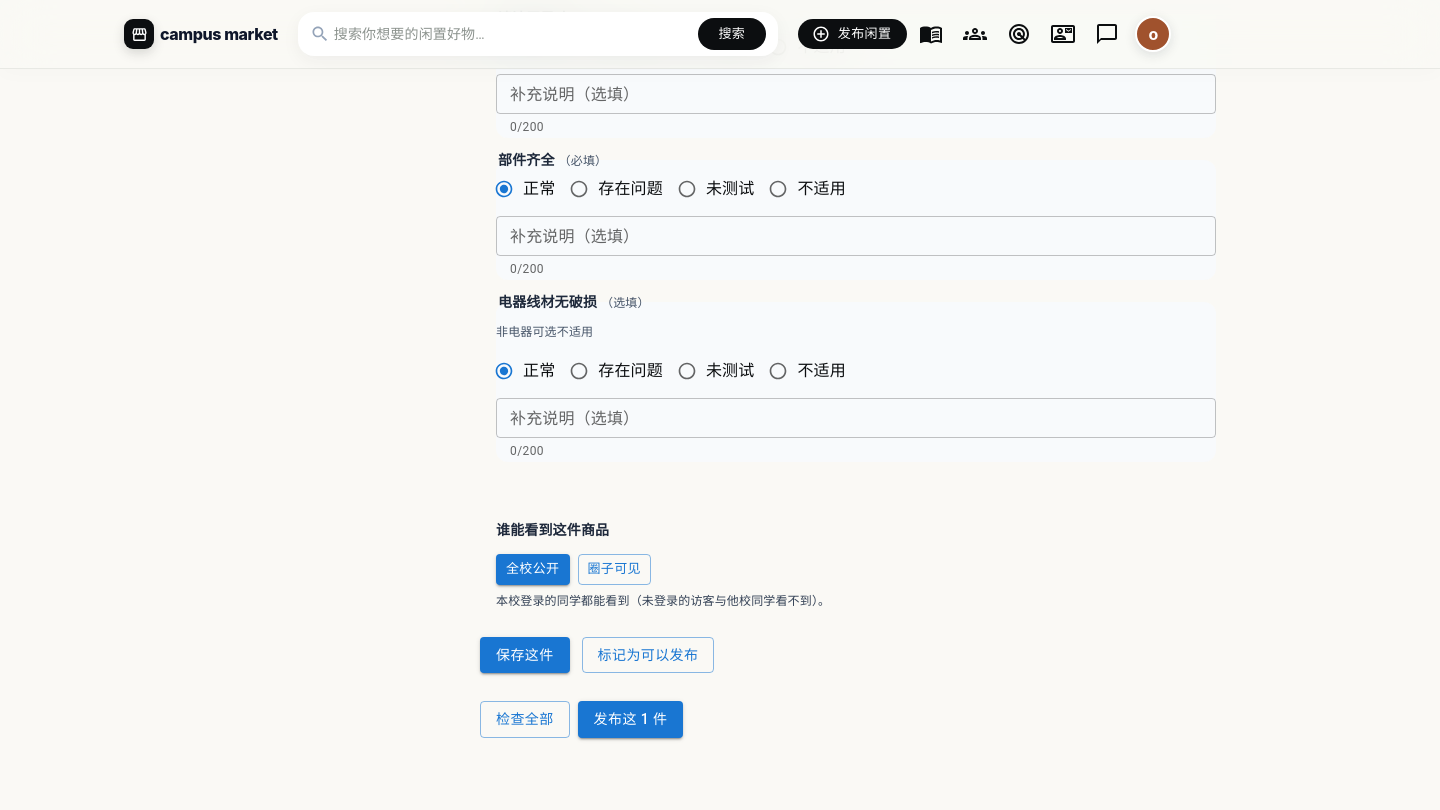
5.7C 追踪矩阵补测 › 8.1 回归：确认后服务端返回问题清单（400）→ 批次刷新完成后「整个批次都没有发布」与问题清单仍然显示，不残留「全部可以发布」
This screenshot has width=1440, height=810.
(page scrolled)
What coordinates should you click on to do the following:
click the button "发布这 1 件"
I would click on:
 (630, 720)
Its box is [578, 701, 683, 738].
(page scrolled)
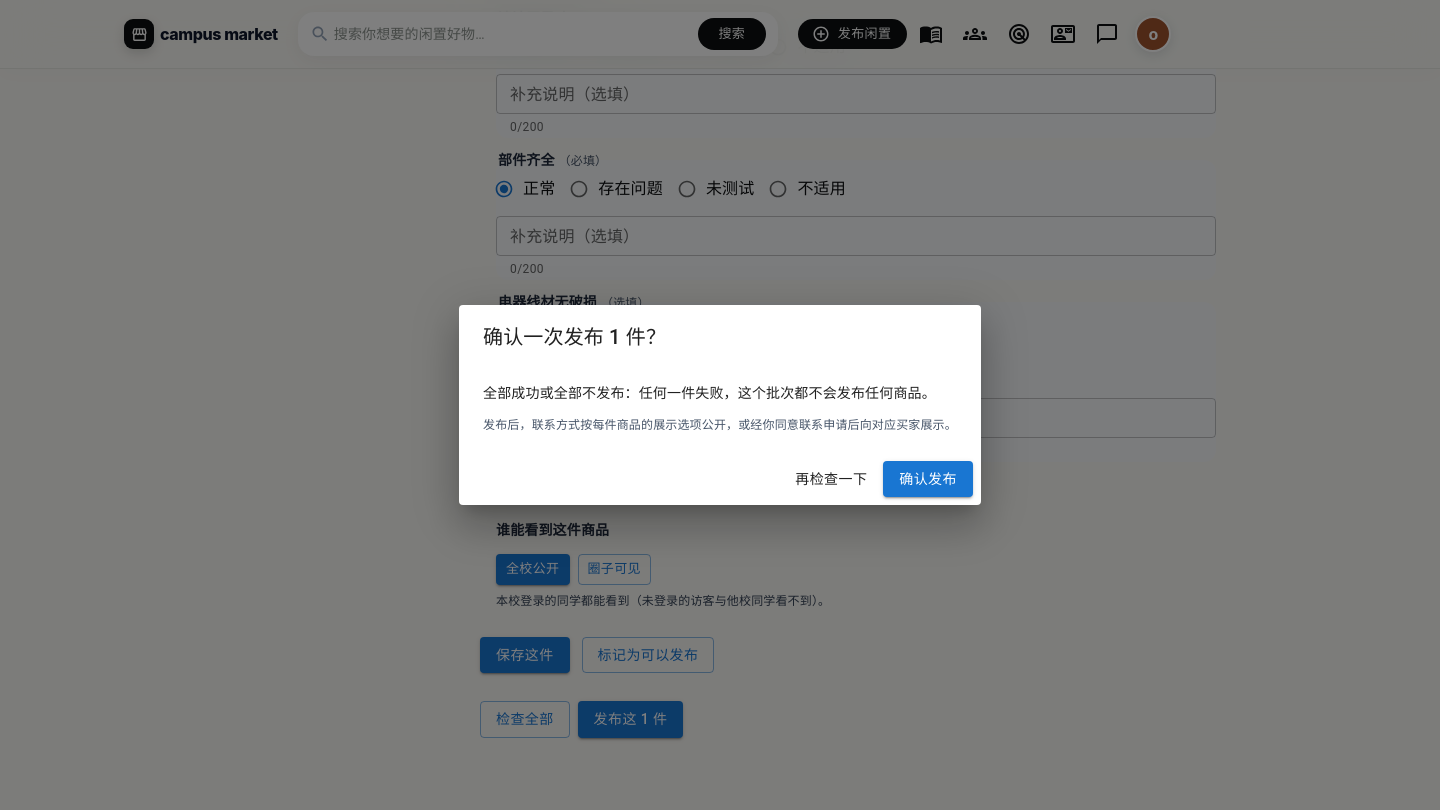
What coordinates should you click on to do the following:
click the button "确认发布"
I would click on:
 (928, 479)
Its box is [883, 461, 973, 497].
(page scrolled)
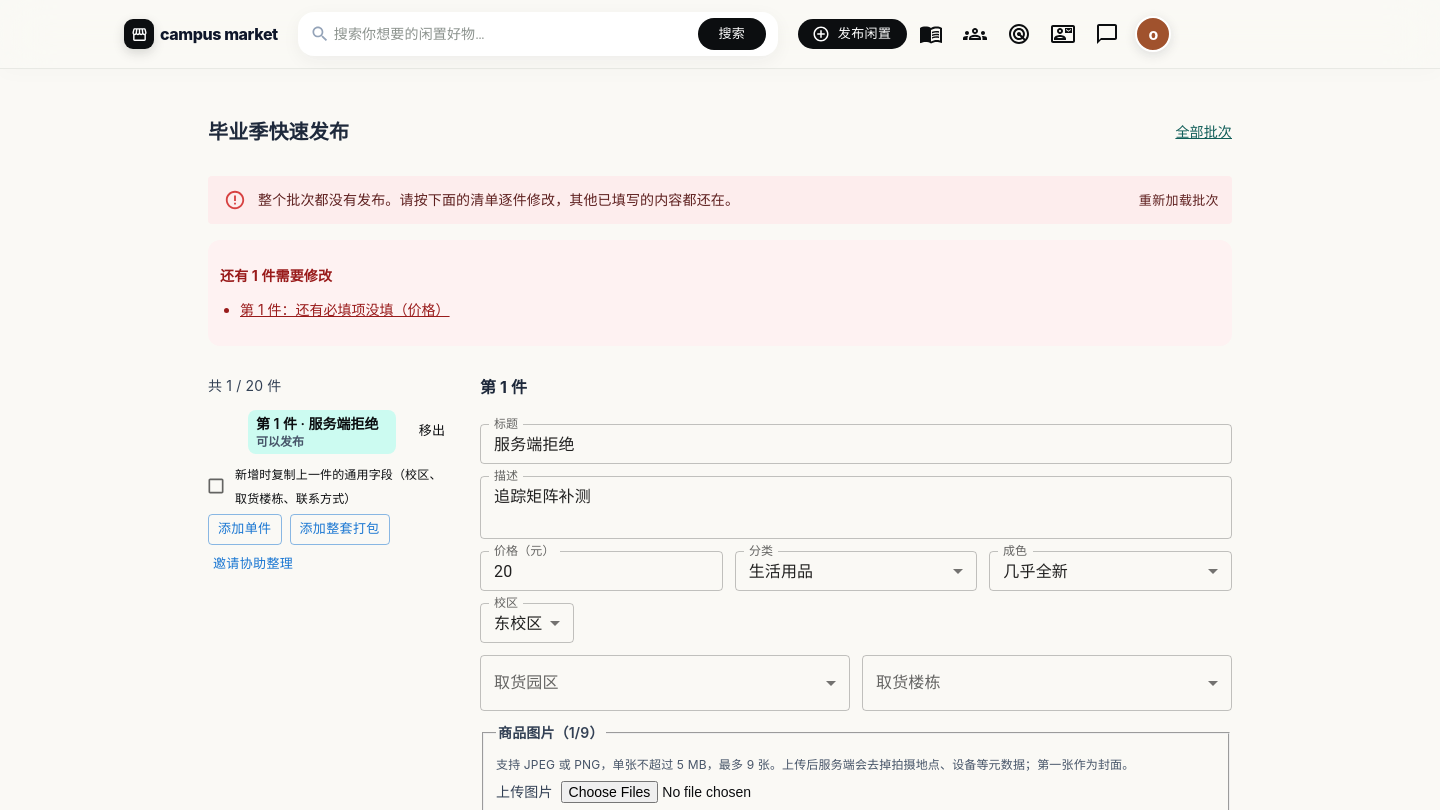
Check: the text "整个批次都没有发布。请按下面的清单逐件修改，其他已填写的内容都还在。" is shown, box [258, 192, 739, 208]
Check: the button "第 1 件：还有必填项没填（价格）" is shown, box [240, 300, 450, 320]
